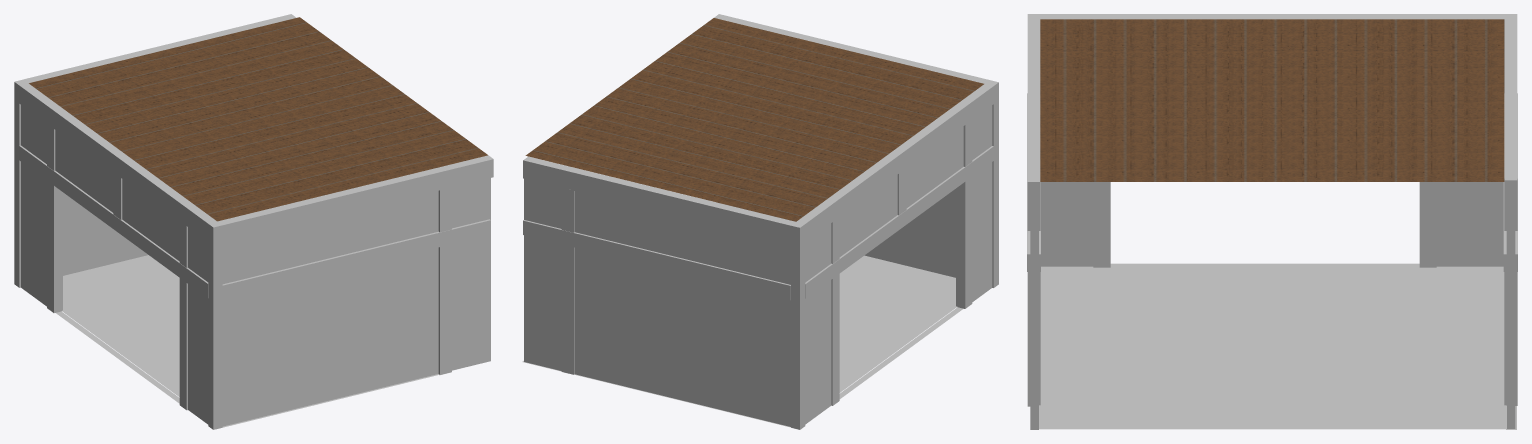
The model's file is 精神世界の一部屋 続き 前.fbx.
The picture shows the model from 3 angles, left to right: view 1: azimuth 30°, elevation 25°; view 2: azimuth 150°, elevation 25°; view 3: azimuth 270°, elevation 25°; orthographic projection. The views are drawn at different scales.
Visible parts, largest first — view 1: 平面.085, 立方体.049, 畳.004, 立方体.045, 立方体.040, 立方体.041, 平面.076, 平面.075, 平面.081, 立方体.046, 立方体.044, 平面.080 (+8 smaller); view 2: 平面.085, 立方体.046, 立方体.042, 畳.004, 立方体.040, 平面.074, 平面.075, 平面.079, 立方体.049, 立方体.044, 平面.080, 平面.072 (+7 smaller); view 3: 畳.004, 平面.085, 立方体.044, 立方体.043, 平面.075, 平面.076, 平面.074, 立方体.041, 平面.077, 平面.078, 立方体.046, 立方体.039 (+4 smaller).
Part boxes in pixels (x1,y1,x2,y2): 平面.085: [29, 17, 487, 221]; 立方体.049: [222, 247, 438, 426]; 畳.004: [62, 255, 179, 396]; 立方体.045: [222, 190, 438, 284]; 立方体.040: [21, 105, 208, 281]; 立方体.041: [452, 178, 490, 370]; 平面.076: [217, 155, 493, 243]; 平面.075: [19, 83, 216, 241]; 平面.081: [222, 219, 490, 299]; 立方体.046: [63, 192, 147, 275]; 立方体.044: [21, 162, 46, 306]; 平面.080: [19, 145, 208, 297]; 平面.085: [525, 18, 983, 221]; 立方体.046: [524, 235, 790, 426]; 立方体.042: [524, 178, 790, 284]; 畳.004: [839, 255, 957, 392]; 立方体.040: [805, 105, 992, 282]; 平面.074: [523, 156, 795, 243]; 平面.075: [796, 84, 993, 241]; 平面.079: [523, 220, 790, 300]; 立方体.049: [864, 189, 955, 277]; 立方体.044: [805, 280, 831, 424]; 平面.080: [805, 146, 993, 298]; 平面.072: [791, 222, 805, 429]; 畳.004: [1039, 266, 1506, 429]; 平面.085: [1040, 19, 1504, 181]; 立方体.044: [1436, 182, 1503, 266]; 立方体.043: [1041, 182, 1093, 266]; 平面.075: [1040, 14, 1504, 19]; 平面.076: [1027, 19, 1040, 204]; 平面.074: [1504, 19, 1517, 202]; 立方体.041: [1030, 204, 1038, 429]; 平面.077: [1093, 182, 1110, 267]; 平面.078: [1419, 182, 1436, 267]; 立方体.046: [1507, 272, 1515, 428]; 立方体.039: [1110, 263, 1419, 266].
Size of the model in its own units: 463 by 320 by 571.
